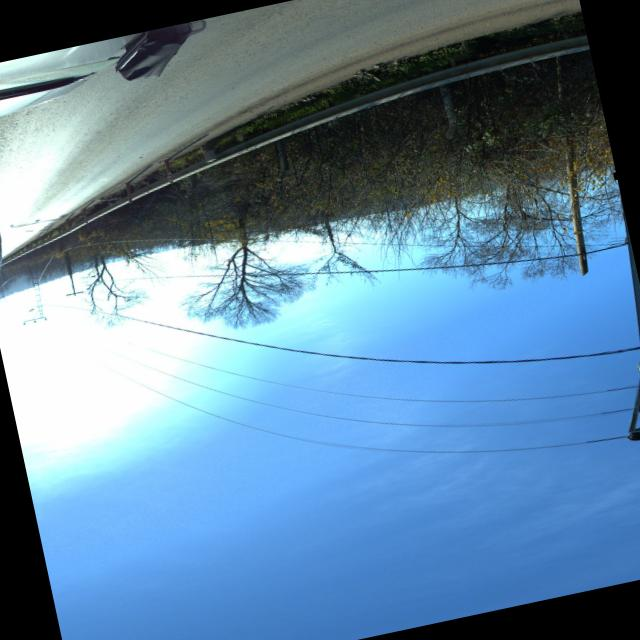Utility Pole Information Plate: (611, 171, 617, 179)
